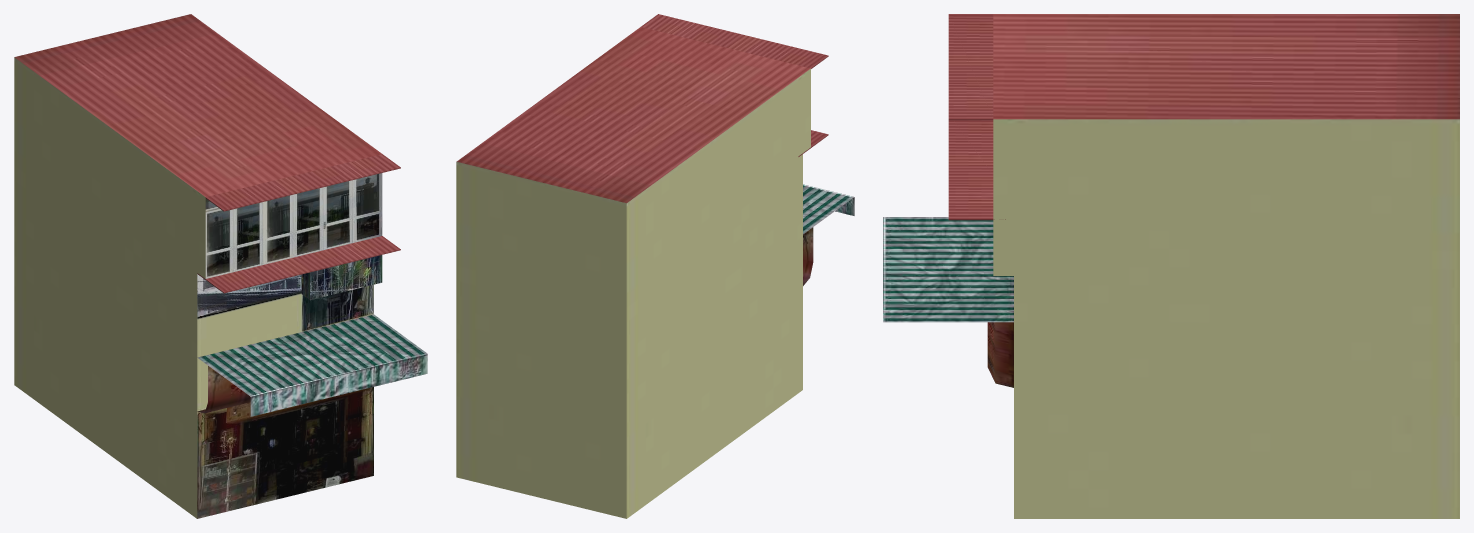
3 views of the same model, side by side, from view 1: azimuth 30°, elevation 25°; view 2: azimuth 150°, elevation 25°; view 3: azimuth 270°, elevation 25° (orthographic). The views are drawn at different scales.
Visible parts, largest first — view 1: HN901___DucPhuc_Phucchecacloaiquatco; view 2: HN901___DucPhuc_Phucchecacloaiquatco; view 3: HN901___DucPhuc_Phucchecacloaiquatco.
Boxes of the visible parts, x1=… form: HN901___DucPhuc_Phucchecacloaiquatco: x1=14, y1=14, x2=427, y2=518; HN901___DucPhuc_Phucchecacloaiquatco: x1=456, y1=14, x2=854, y2=518; HN901___DucPhuc_Phucchecacloaiquatco: x1=883, y1=14, x2=1459, y2=518.
Size of the model in its own units: 3.8 by 6.73 by 8.8.
1 material, 1 textured.
